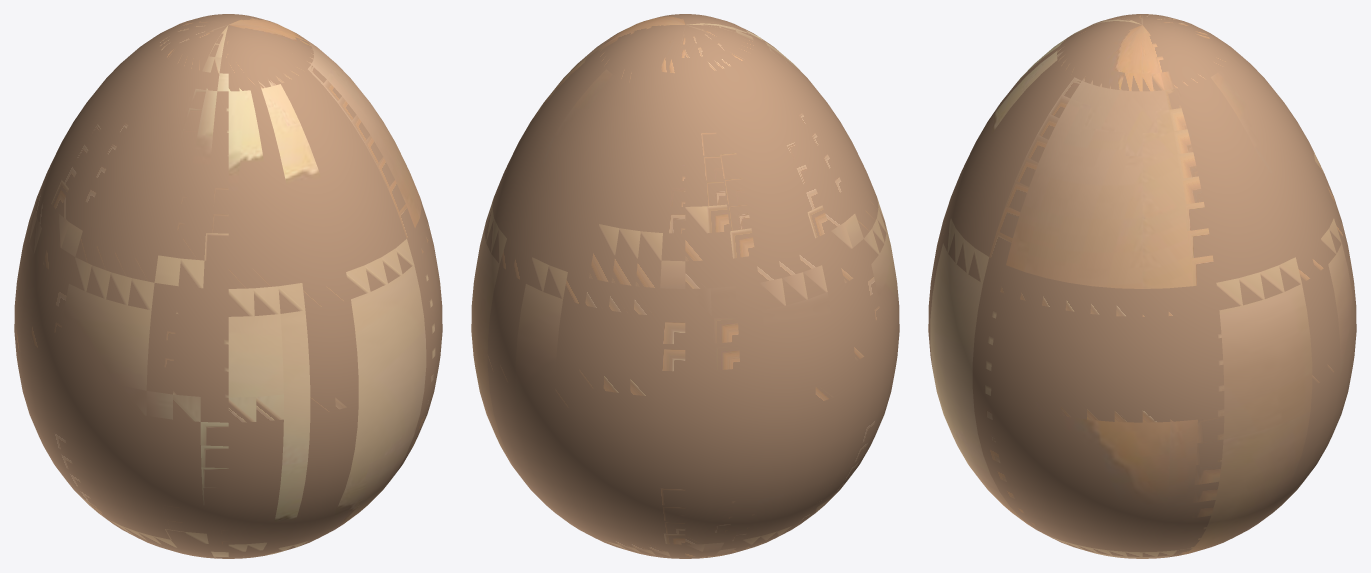
The picture shows the model from 3 angles, left to right: view 1: azimuth 30°, elevation 25°; view 2: azimuth 150°, elevation 25°; view 3: azimuth 270°, elevation 25°; orthographic projection.
Visible parts, largest first — view 1: egg; view 2: egg; view 3: egg.
Part boxes in pixels (x1=…): egg: x1=14, y1=14, x2=442, y2=558; egg: x1=471, y1=14, x2=899, y2=558; egg: x1=928, y1=14, x2=1356, y2=558.
Size of the model in its own units: 0.0445 by 0.059 by 0.0445.
1 material, 1 textured.
